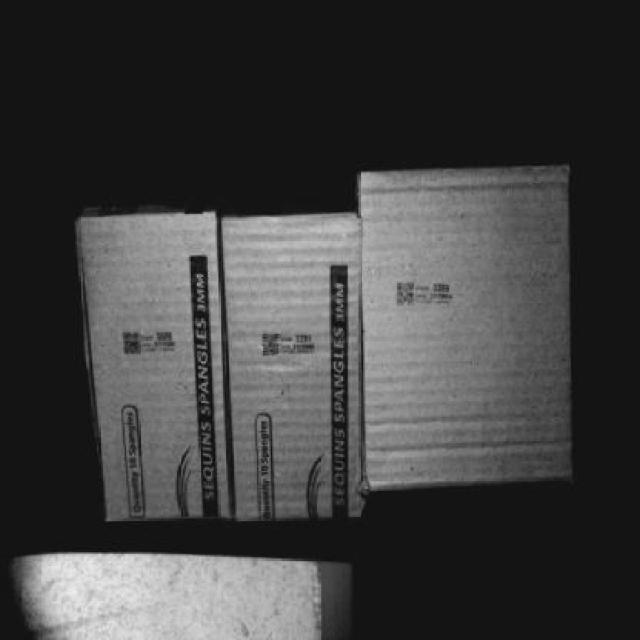box: (360, 162, 576, 480), (79, 211, 232, 524), (224, 220, 360, 518)
